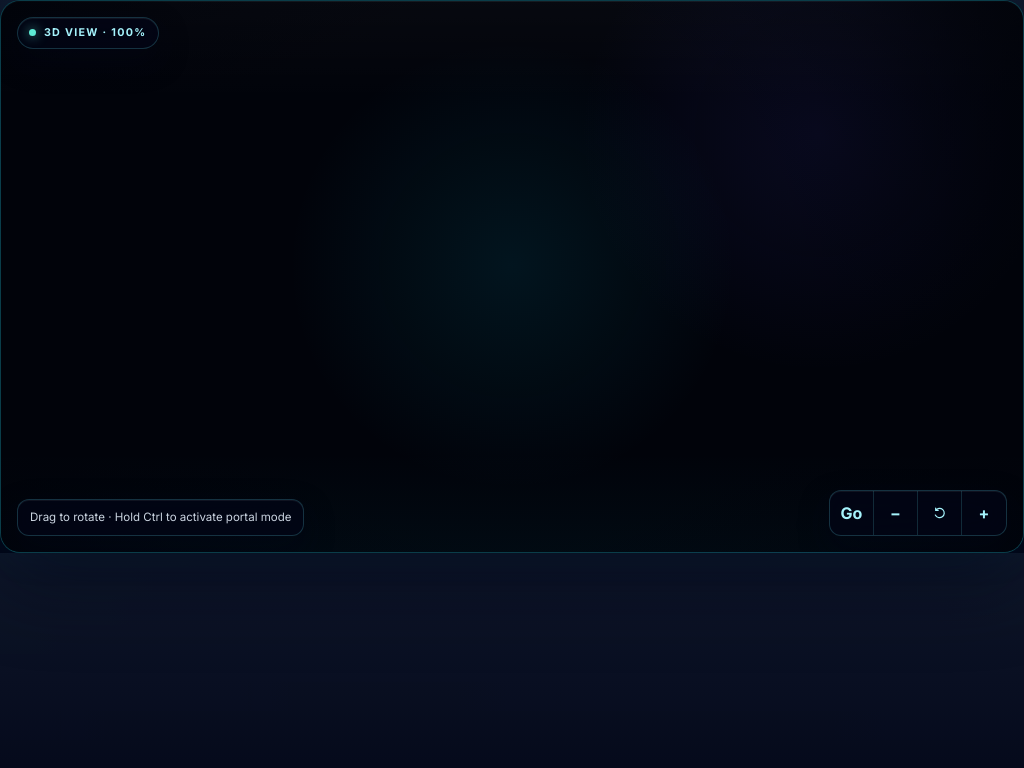
Test: 3D blockchain network controls › uses Control as an exclusive portal-selection mode
Expected: the button named "zoom in 3d network" is enabled, [962,491,1006,535]
Expected: the button named "zoom out 3d network" is enabled, [874,491,918,535]
Press Control
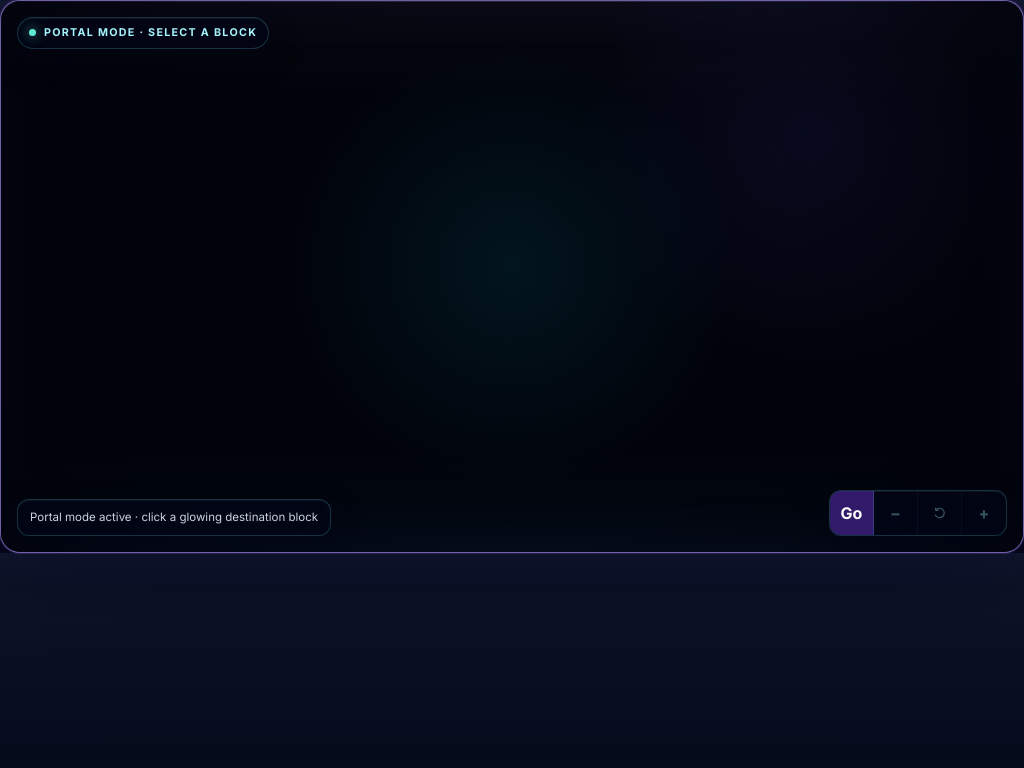
Expected: the button named "zoom out 3d network" is disabled, [874,491,918,535]
Now the text "Portal mode active · click a glowing destination block" is shown, box [30,510,318,524]
Now the button named "zoom in 3d network" is disabled, box [962,491,1006,535]
Press the mouse on the element named "interactive three-dimensional blockchain network" at (512, 276), box [0,0,1023,553]
Press Control
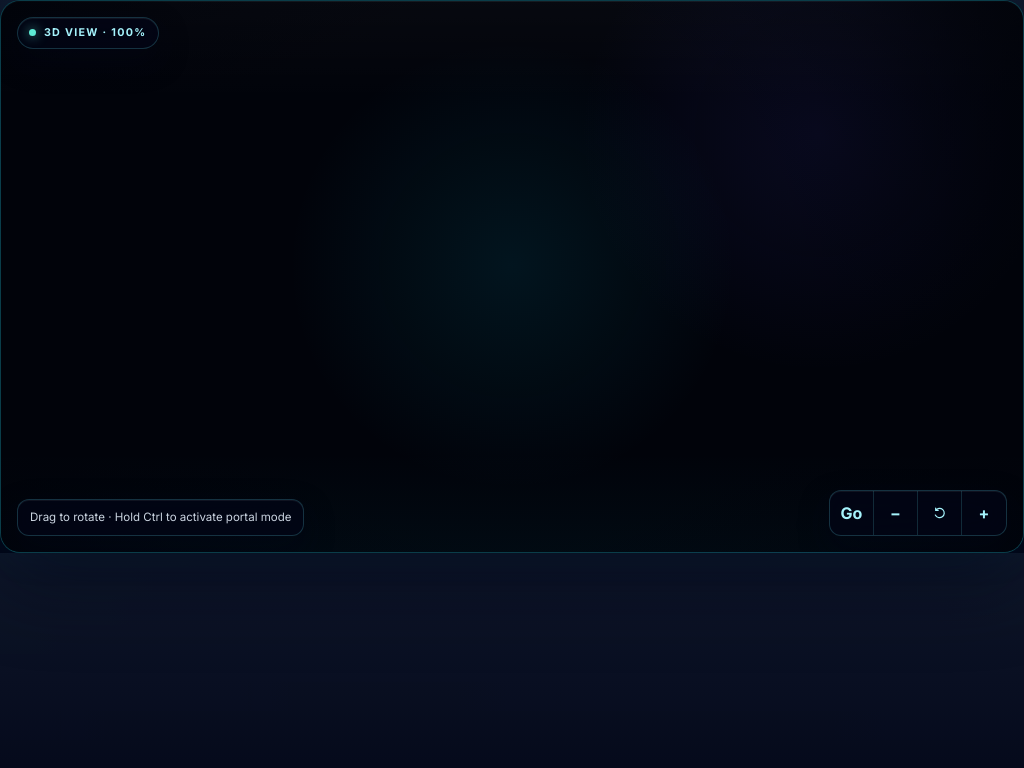
Expected: the button named "zoom out 3d network" is enabled, [874,491,918,535]
Now the button named "zoom in 3d network" is enabled, box [962,491,1006,535]
